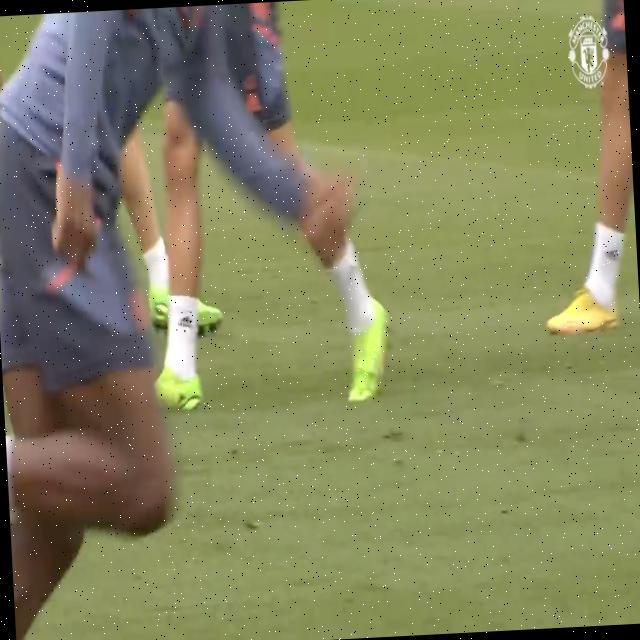Adidas: (176, 308, 193, 333), (603, 242, 620, 264)
